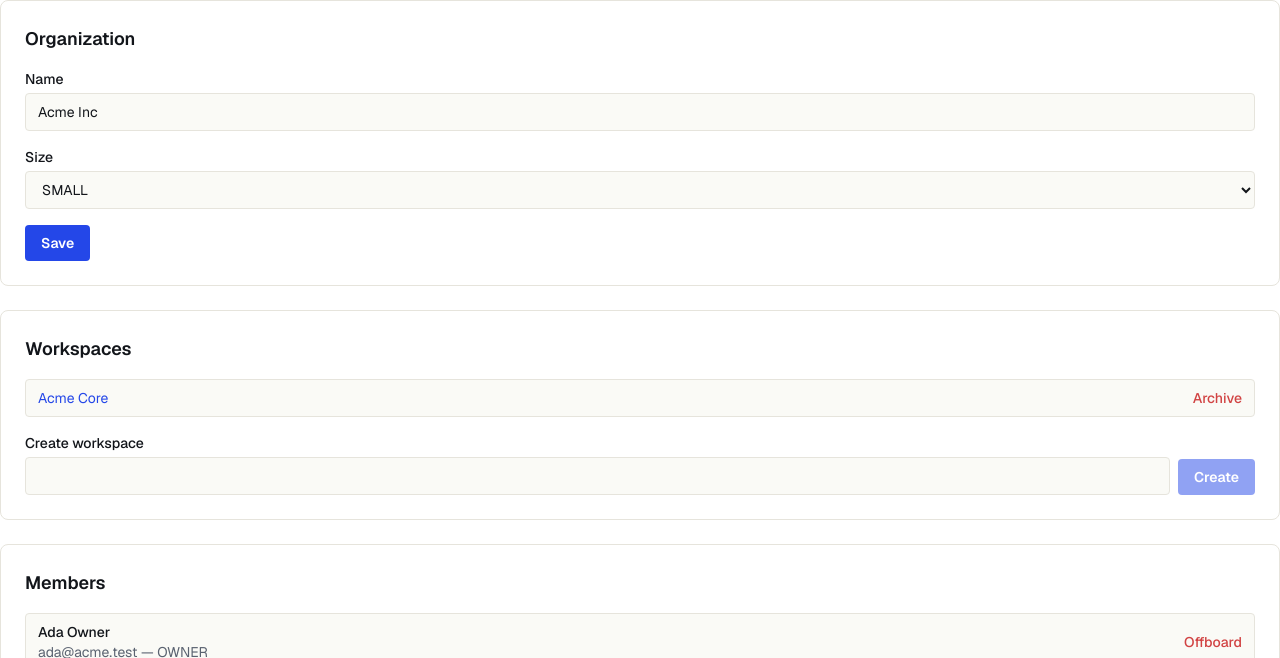
Scenario: OrgSettings › shows an inline error and keeps the row on a 409 offboard failure
Click the button "Offboard" in the row of "ada@acme.test" at (1213, 642), box x1=1184 y1=632 x2=1242 y2=652
(page scrolled)
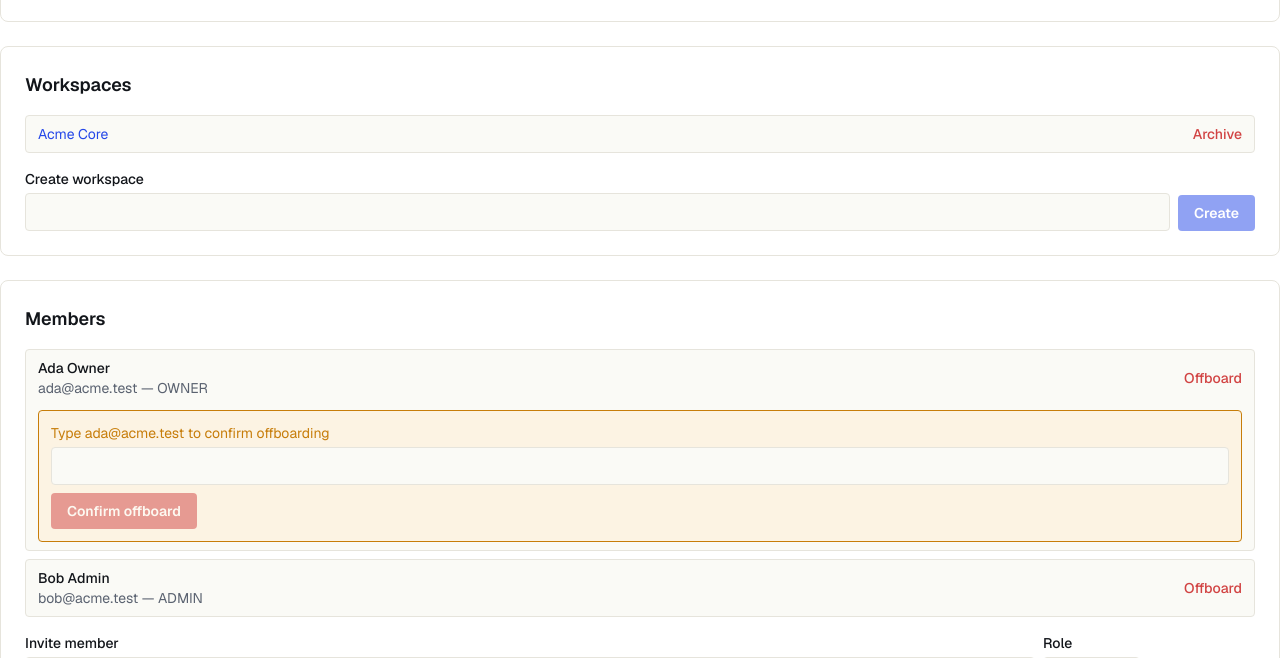
Type "ada@acme.test" into the field labelled "Type ada@acme.test to confirm offboarding" at (640, 466), box x1=51 y1=447 x2=1229 y2=485
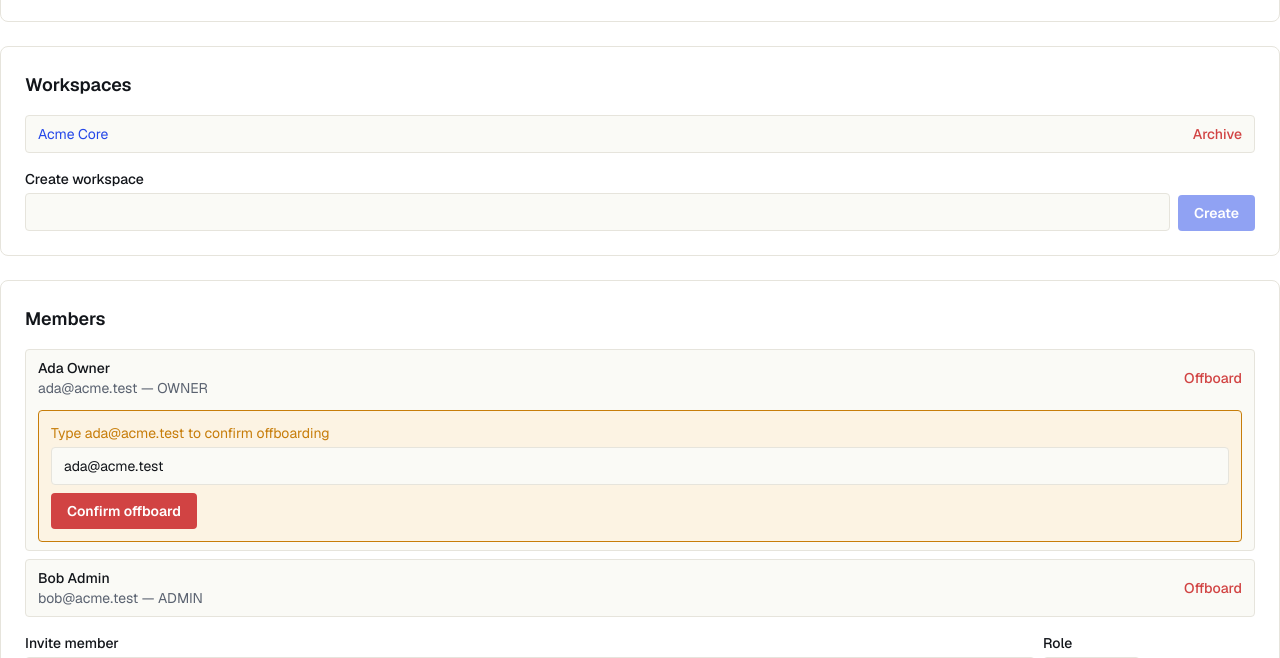
Click the button "Confirm offboard" at (124, 511), box x1=51 y1=493 x2=197 y2=529
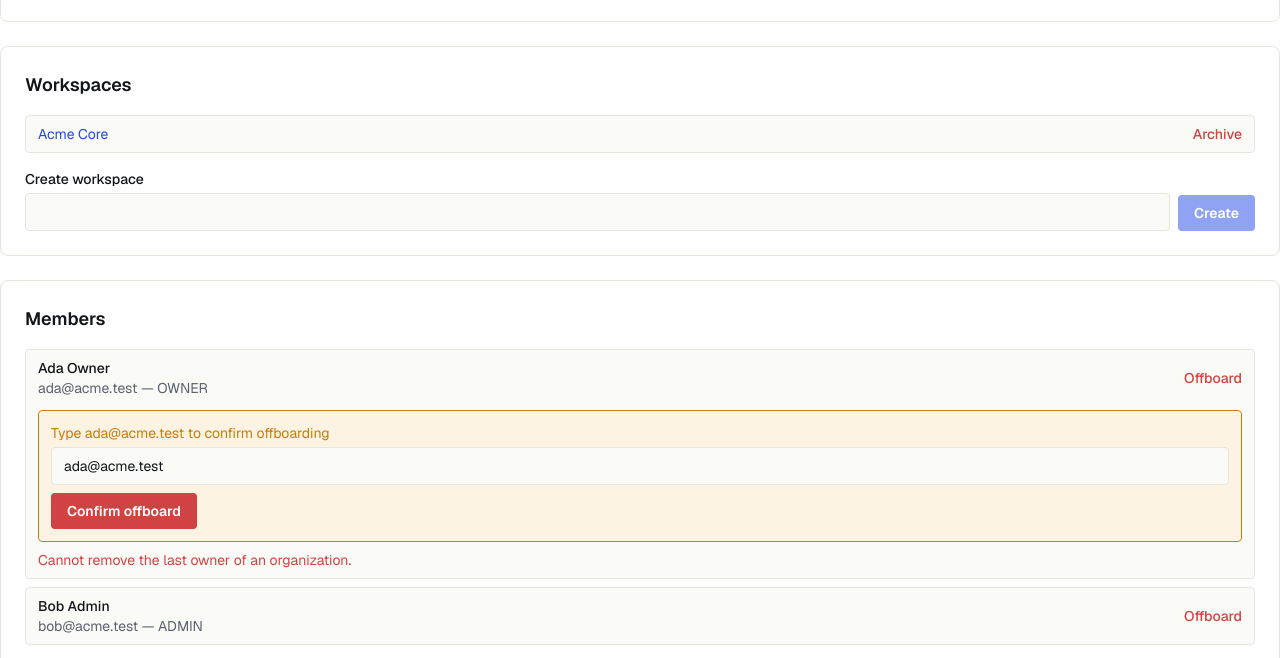
Check: the text "Ada Owner" is shown, box x1=38 y1=359 x2=110 y2=377
Check: the text "Cannot remove the last owner of an organization." is shown, box x1=38 y1=551 x2=351 y2=569
